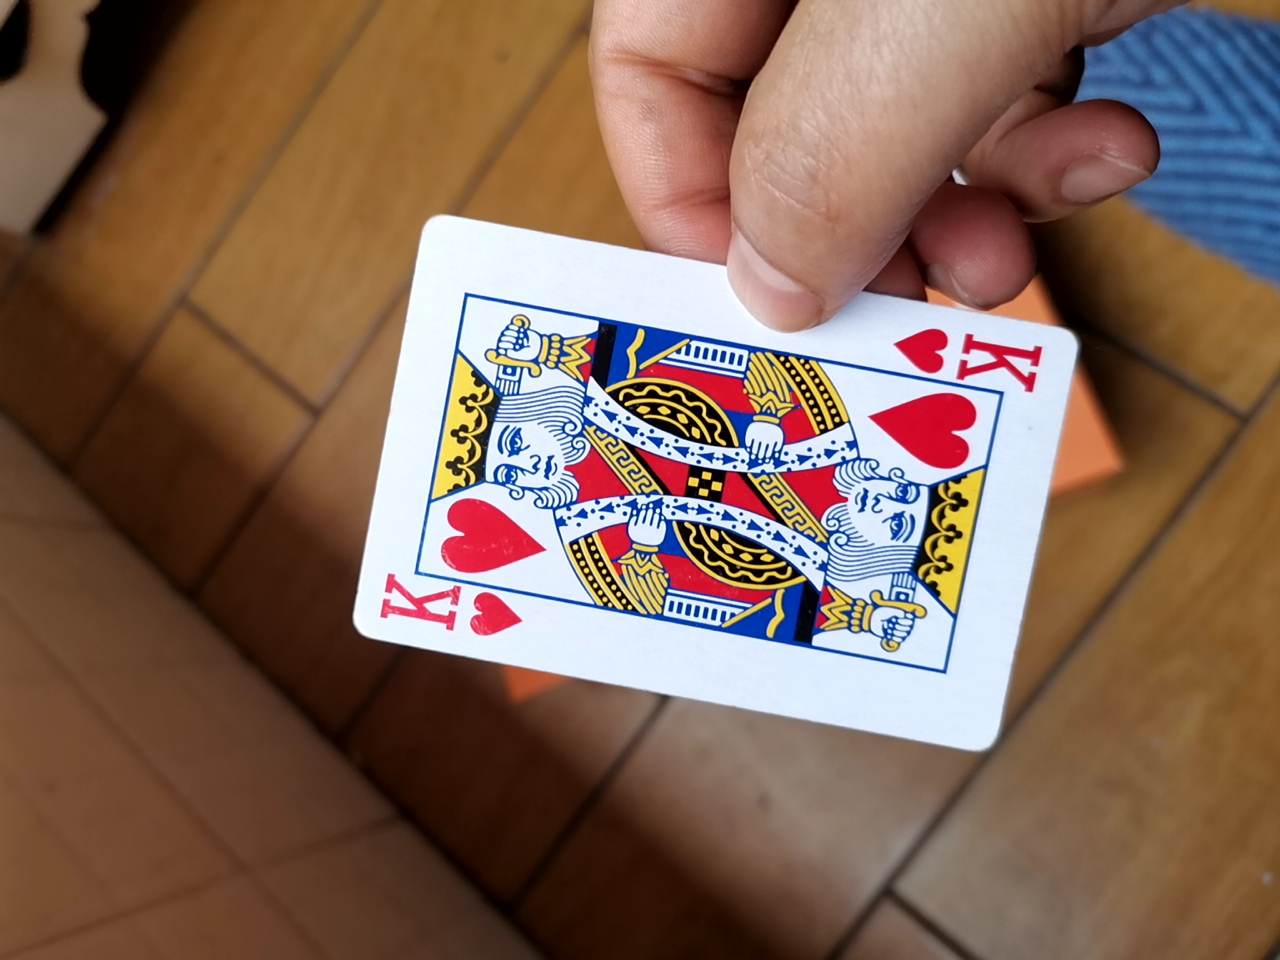hx k: (339, 217, 1087, 754)
